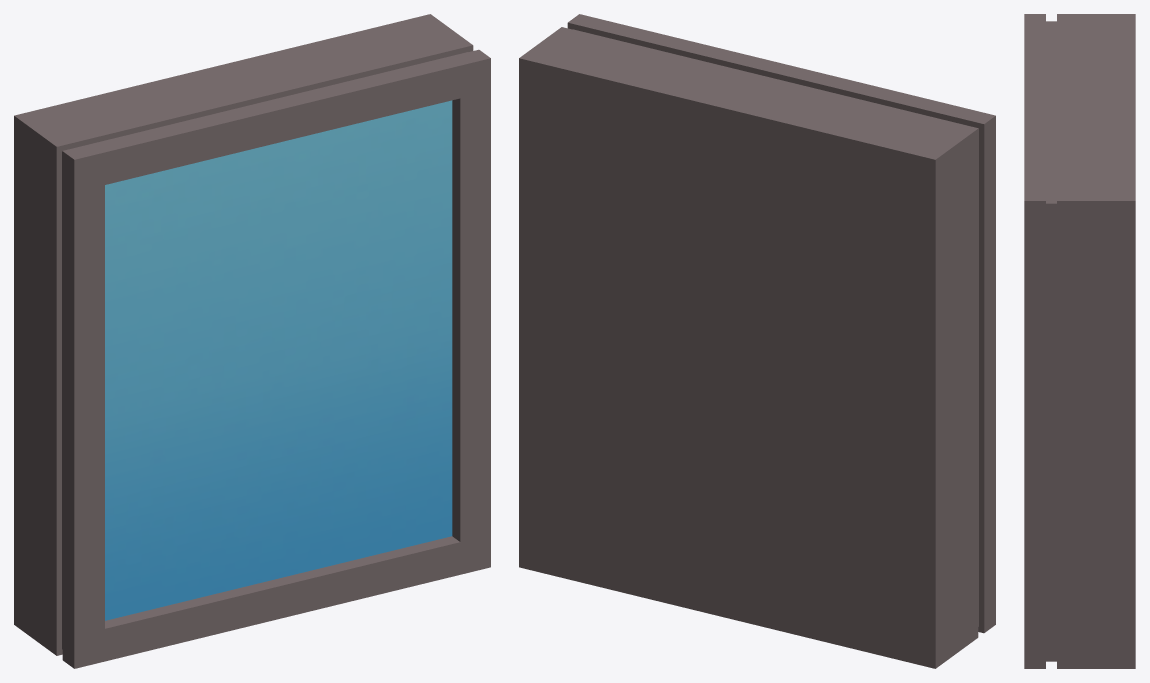
Rendered from SM_Mirror_Bathroom_1_03.fbx.
3 renders of one model, left to right at view 1: azimuth 30°, elevation 25°; view 2: azimuth 150°, elevation 25°; view 3: azimuth 270°, elevation 25°, orthographic. The views are drawn at different scales.
Visible parts, largest first — view 1: SM_Mirror_Bathroom_1_03; view 2: SM_Mirror_Bathroom_1_03; view 3: SM_Mirror_Bathroom_1_03.
Boxes of the visible parts, x1,y1,x2,y2 form: SM_Mirror_Bathroom_1_03: (14,14,490,668); SM_Mirror_Bathroom_1_03: (519,14,995,668); SM_Mirror_Bathroom_1_03: (1024,14,1135,668).
Size of the model in its own units: 72.21 by 84.35 by 18.15.
